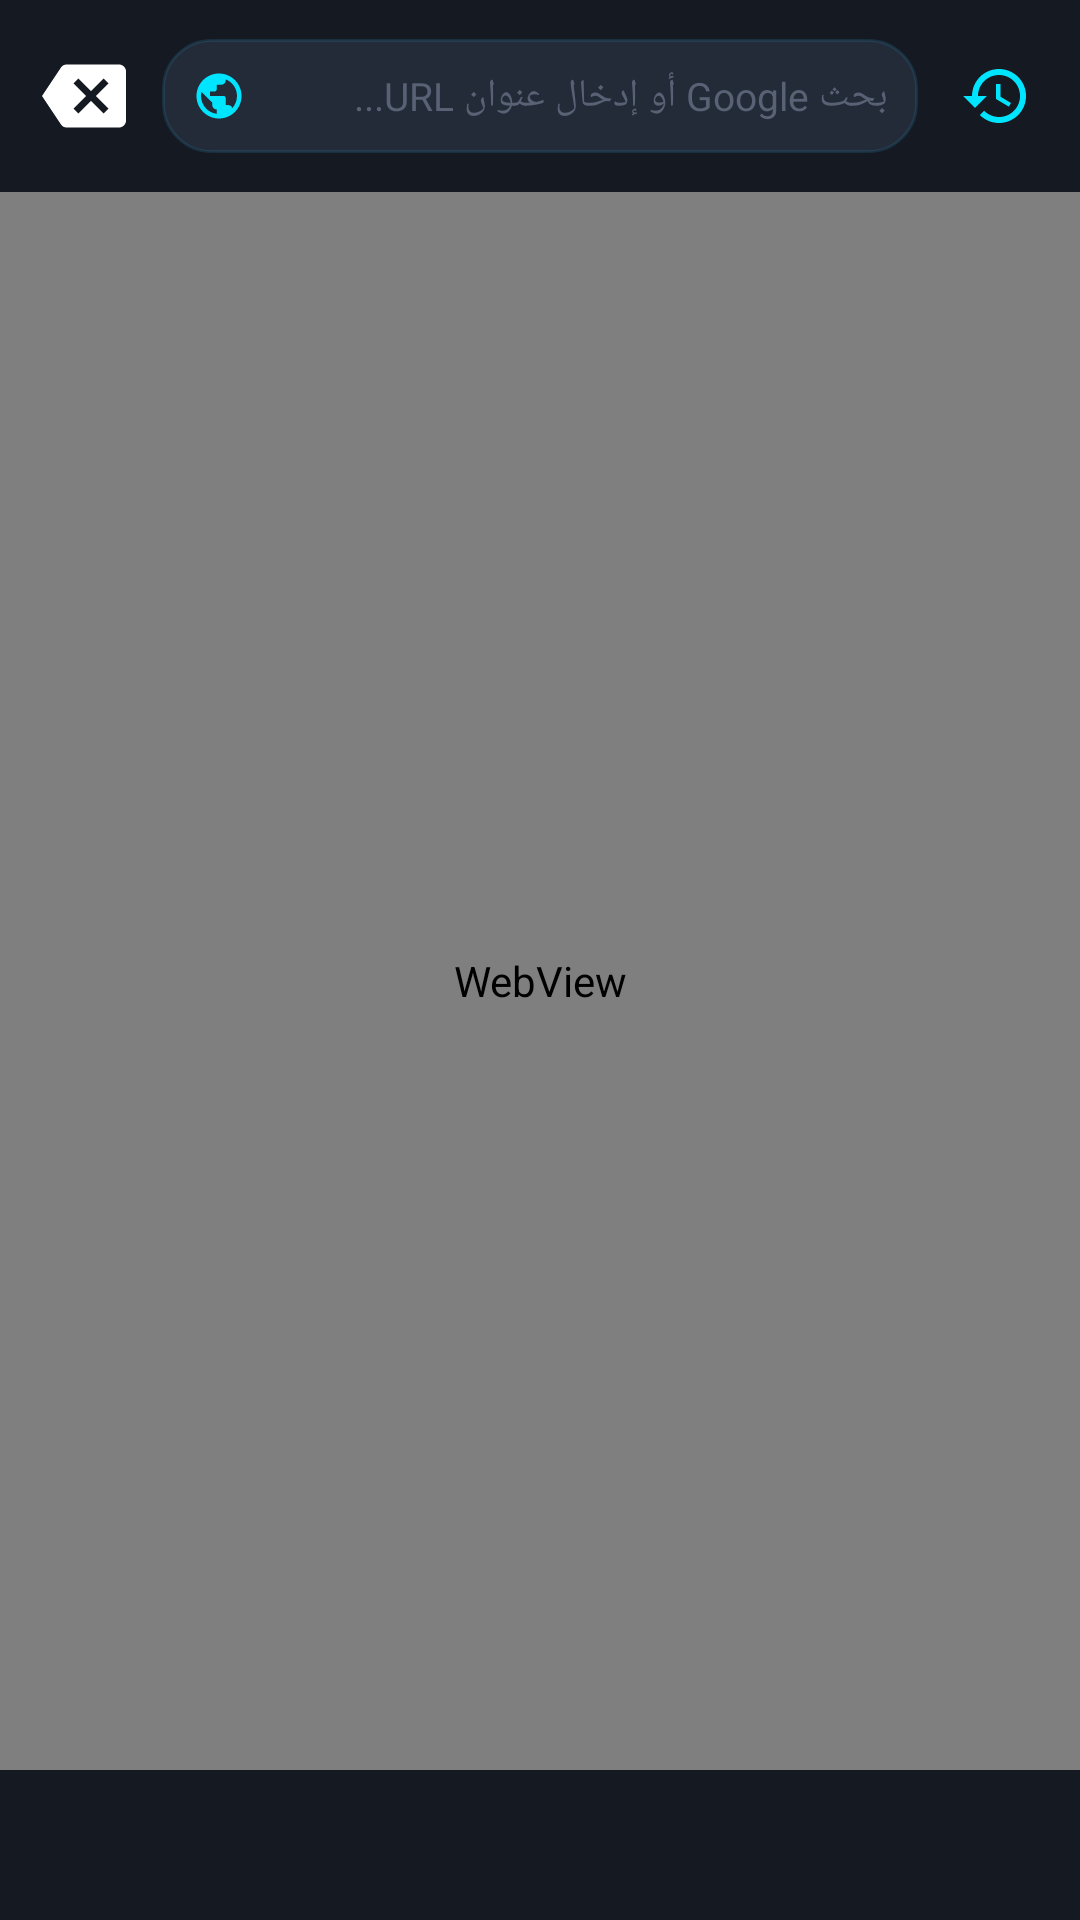

Where to tap for icons on this 1080w x 1920h app screen, as (x,y):
globe: (219,96)
